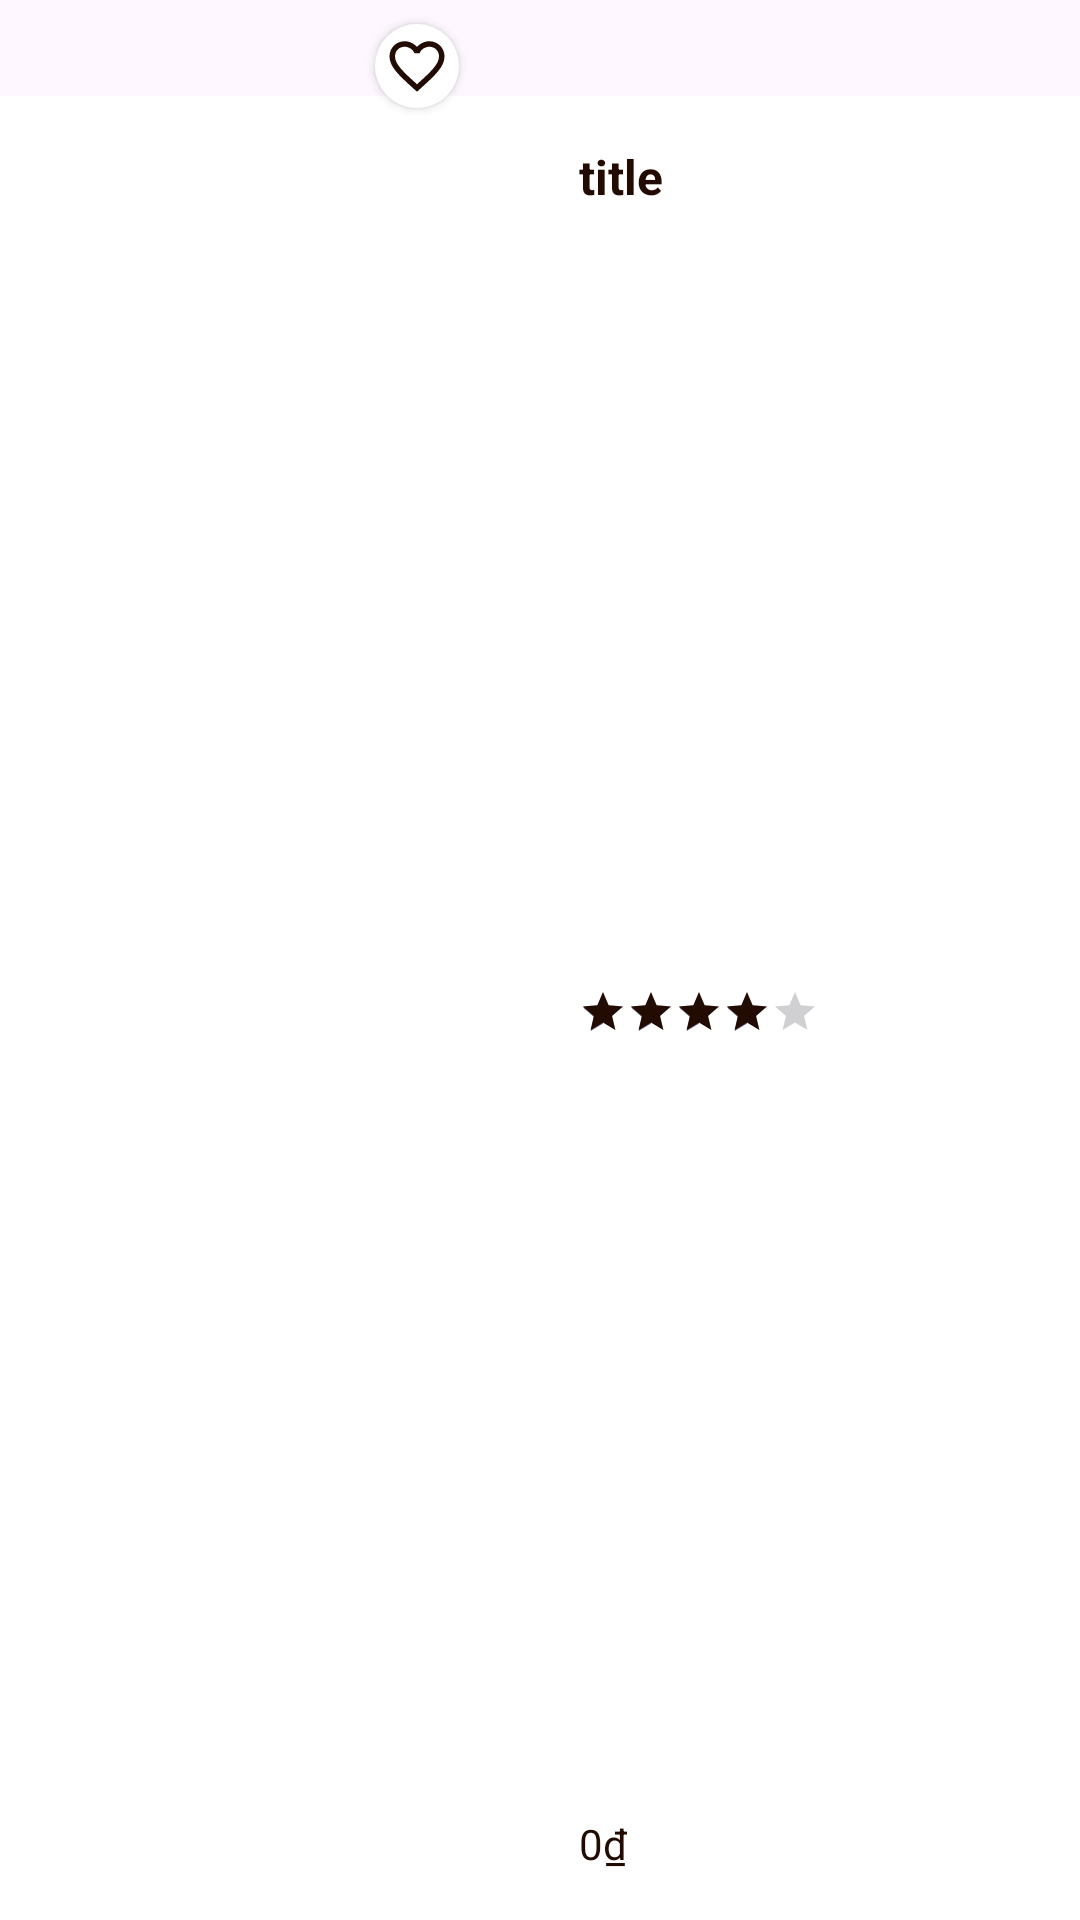

Icon bounding boxes for this 1080px×1920px phone screenshot, format (x1, y1, x2, y2):
favorite: (375, 24, 459, 108)
